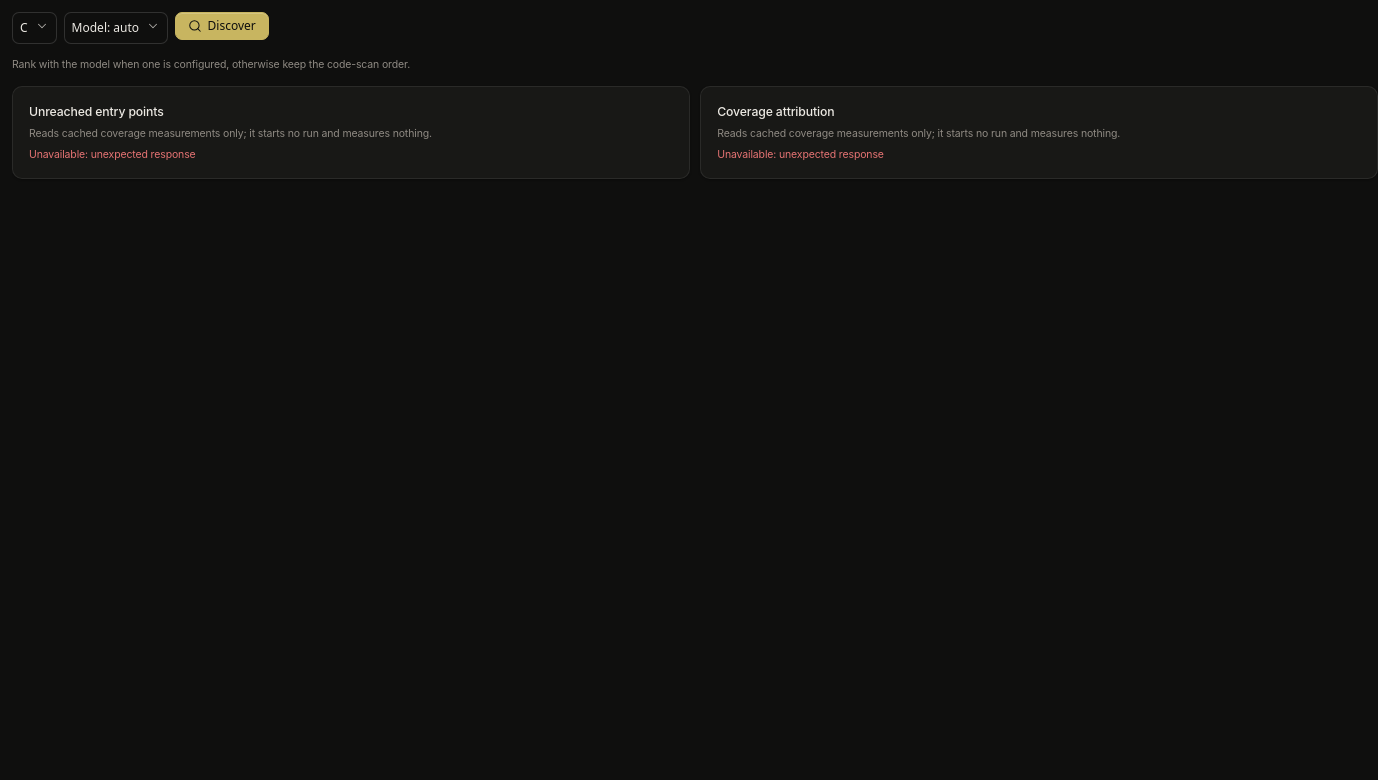
it: does not reattach an old pending operation while a new scan starts
Later steps or results of the test are not shown.
Click the button "Discover". click: [222, 26]
box: [175,12,269,40]
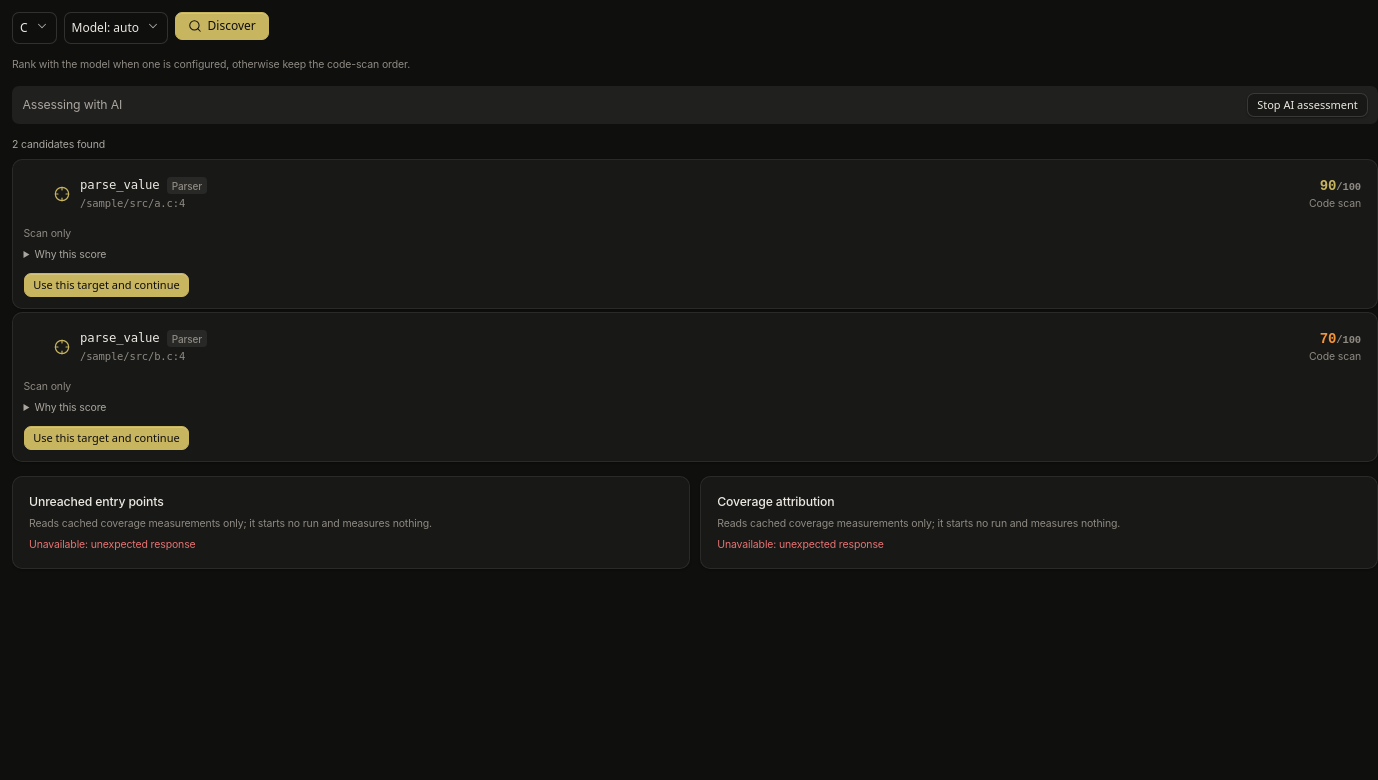
Expected: the text "src/a.c" is shown, [80,197,173,209]
